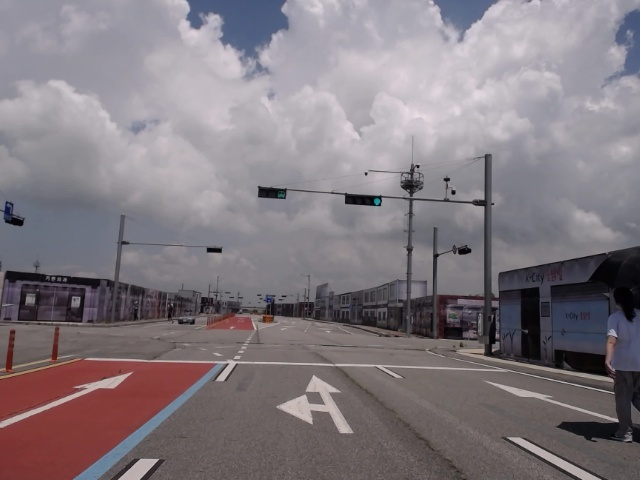straight_green_4: (346, 194, 383, 207)
